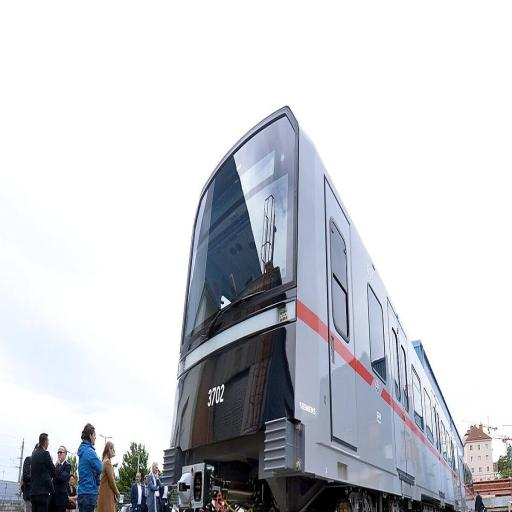X-Wagen: (160, 108, 460, 506)
